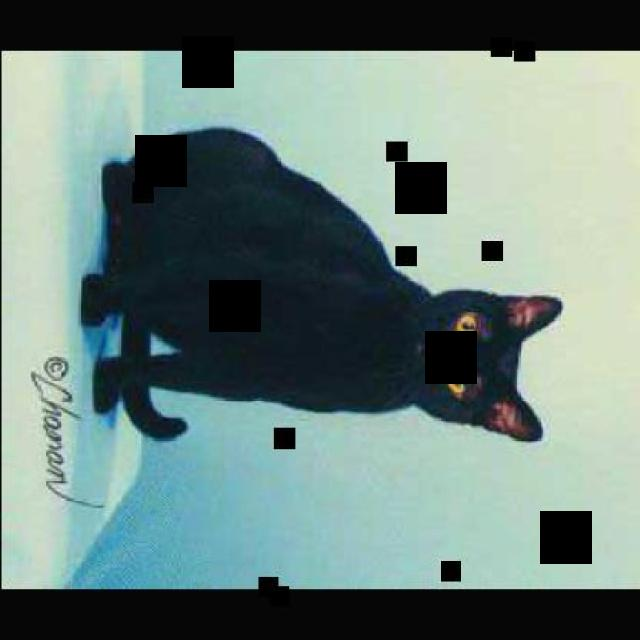unauthorized: (79, 125, 563, 443)
